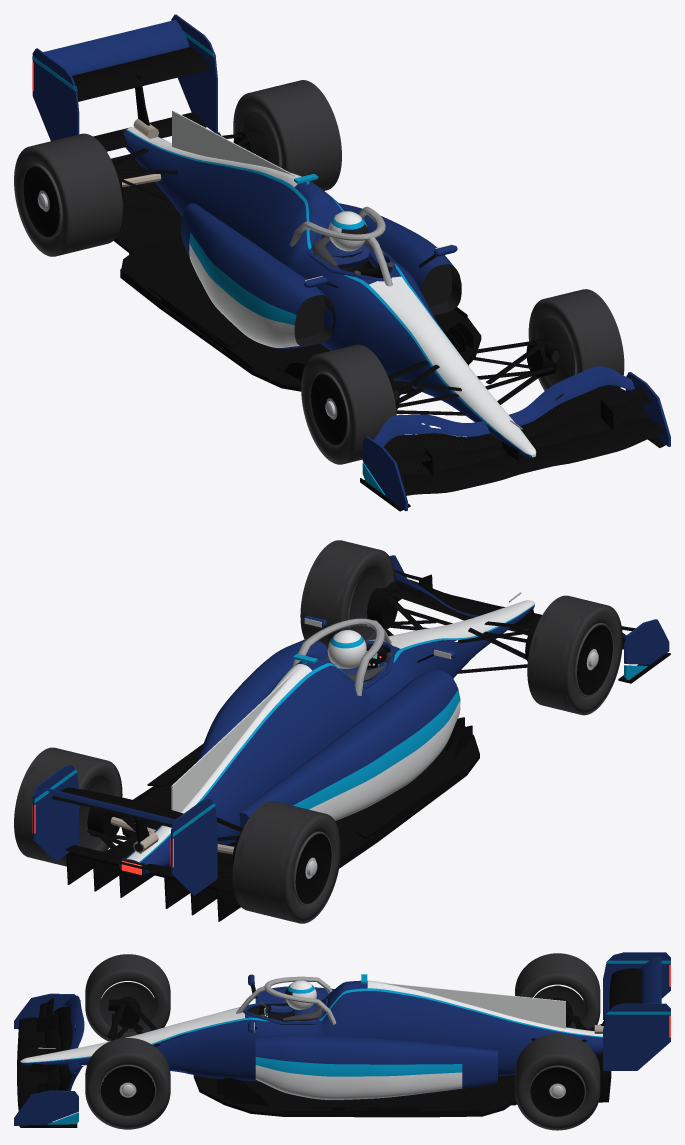
File: formula-car.glb
3 views of the same model, one above another, from view 1: azimuth 30°, elevation 25°; view 2: azimuth 150°, elevation 25°; view 3: azimuth 270°, elevation 25° (orthographic). The views are drawn at different scales.
Visible parts, largest first — view 1: body, front_wing_shell, wheel_RR_mesh, rear_wing_shell, wheel_FR_mesh, wheel_RL_mesh, wheel_FL_mesh, drs_flap_shell; view 2: body, wheel_RR_mesh, rear_wing_shell, wheel_FR_mesh, wheel_FL_mesh, wheel_RL_mesh, front_wing_shell, drs_flap_shell; view 3: body, front_wing_shell, wheel_RL_mesh, rear_wing_shell, wheel_FL_mesh, wheel_FR_mesh, wheel_RR_mesh, drs_flap_shell.
Boxes of the visible parts, x1,y1,x2,y2 form: body: (111,110,560,457); front_wing_shell: (360,366,670,511); wheel_RR_mesh: (14,133,122,256); rear_wing_shell: (32,14,217,151); wheel_FR_mesh: (301,344,396,464); wheel_RL_mesh: (233,80,341,190); wheel_FL_mesh: (528,289,624,401); drs_flap_shell: (43,20,189,75); body: (66,582,536,921); wheel_RR_mesh: (232,801,341,923); rear_wing_shell: (32,765,217,895); wheel_FR_mesh: (527,595,622,715); wheel_FL_mesh: (300,540,395,648); wheel_RL_mesh: (14,747,122,866); front_wing_shell: (389,555,670,683); drs_flap_shell: (42,788,175,824); body: (20,974,611,1117); front_wing_shell: (14,993,84,1127); wheel_RL_mesh: (515,1034,600,1130); rear_wing_shell: (601,952,670,1070); wheel_FL_mesh: (85,1038,170,1129); wheel_FR_mesh: (85,954,170,1041); wheel_RR_mesh: (515,953,600,1029); drs_flap_shell: (641,955,661,1003).
Bounding box in the file's own units: 2.01 × 0.9476 × 5.5.
28 materials, 3 textured.
